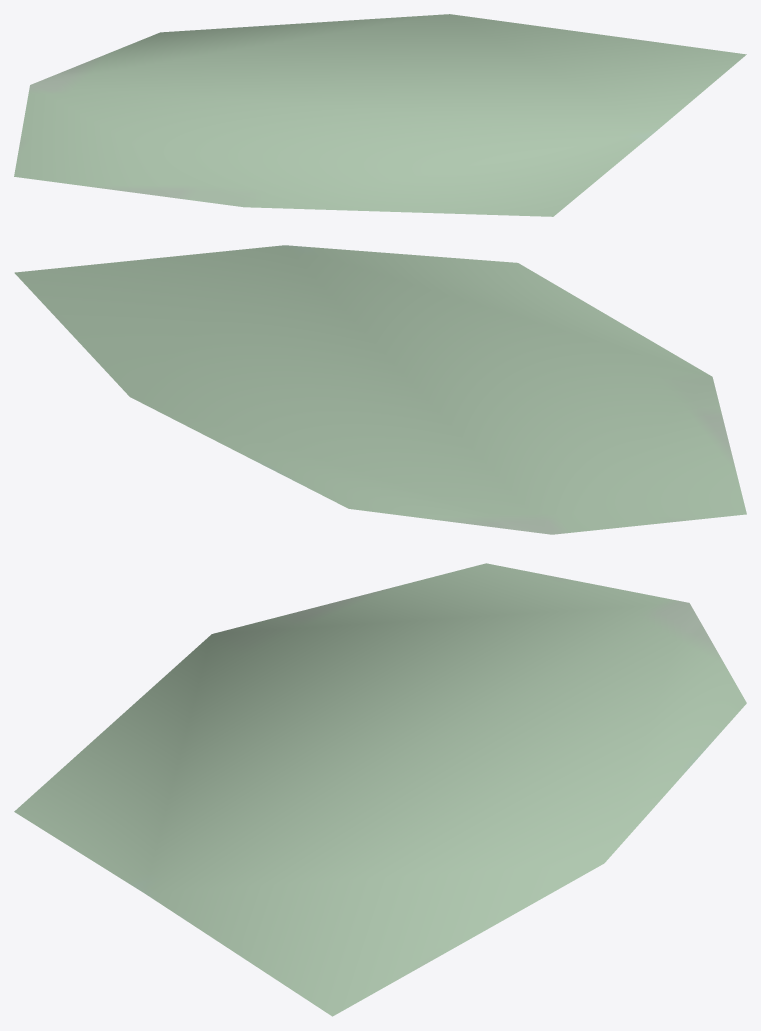
File: TROLLHOLE02_HOLECAP159.fbx
3 renders of one model, top to bottom at view 1: azimuth 30°, elevation 25°; view 2: azimuth 150°, elevation 25°; view 3: azimuth 270°, elevation 25°, orthographic. The views are drawn at different scales.
Visible parts, largest first — view 1: TROLLHOLE02_HOLECAP159; view 2: TROLLHOLE02_HOLECAP159; view 3: TROLLHOLE02_HOLECAP159.
Boxes of the visible parts, left/top/right/bottom form: TROLLHOLE02_HOLECAP159: left=14, top=14, right=746, bottom=216; TROLLHOLE02_HOLECAP159: left=14, top=245, right=746, bottom=534; TROLLHOLE02_HOLECAP159: left=14, top=563, right=746, bottom=1016.
Size of the model in its own units: 40027 by 1051 by 27481.
1 material, 1 textured.
